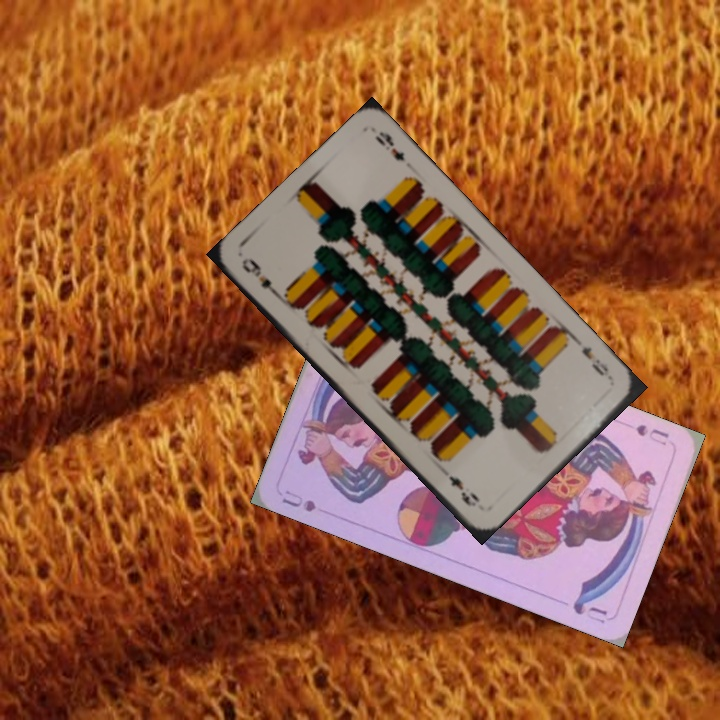E9: (237, 253, 283, 301), (577, 342, 612, 379)
SU: (278, 486, 319, 515), (631, 420, 672, 449)
